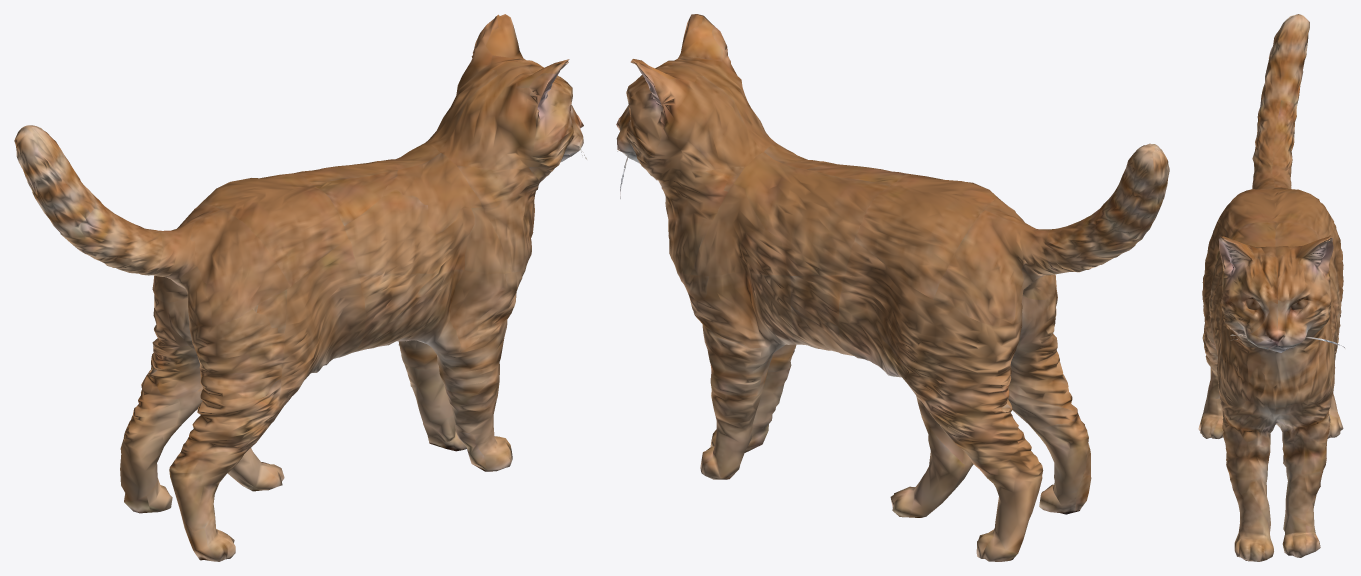
Rendered from DATASPOT-lo.glb.
3 renders of one model, left to right at view 1: azimuth 30°, elevation 25°; view 2: azimuth 150°, elevation 25°; view 3: azimuth 270°, elevation 25°, orthographic. The views are drawn at different scales.
Parts seen in each view (by area): view 1: tripo_node_dbebdf8a-fa45-489c-8c24-5569d175d4b4; view 2: tripo_node_dbebdf8a-fa45-489c-8c24-5569d175d4b4; view 3: tripo_node_dbebdf8a-fa45-489c-8c24-5569d175d4b4.
Part boxes in pixels (<box>): tripo_node_dbebdf8a-fa45-489c-8c24-5569d175d4b4: <box>14,14,586,561</box>; tripo_node_dbebdf8a-fa45-489c-8c24-5569d175d4b4: <box>616,14,1169,561</box>; tripo_node_dbebdf8a-fa45-489c-8c24-5569d175d4b4: <box>1198,14,1345,561</box>.
Size of the model in its own units: 1.35 by 0.9967 by 0.3697.
1 material, 1 textured.
